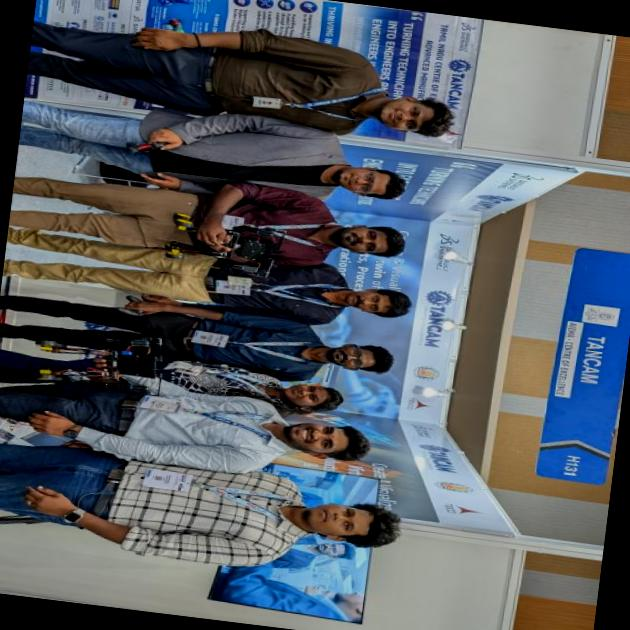there is a person: (44, 14, 440, 156), (0, 446, 390, 579), (0, 291, 431, 400), (0, 236, 418, 340), (54, 178, 405, 286), (0, 369, 334, 481), (104, 124, 407, 216)
